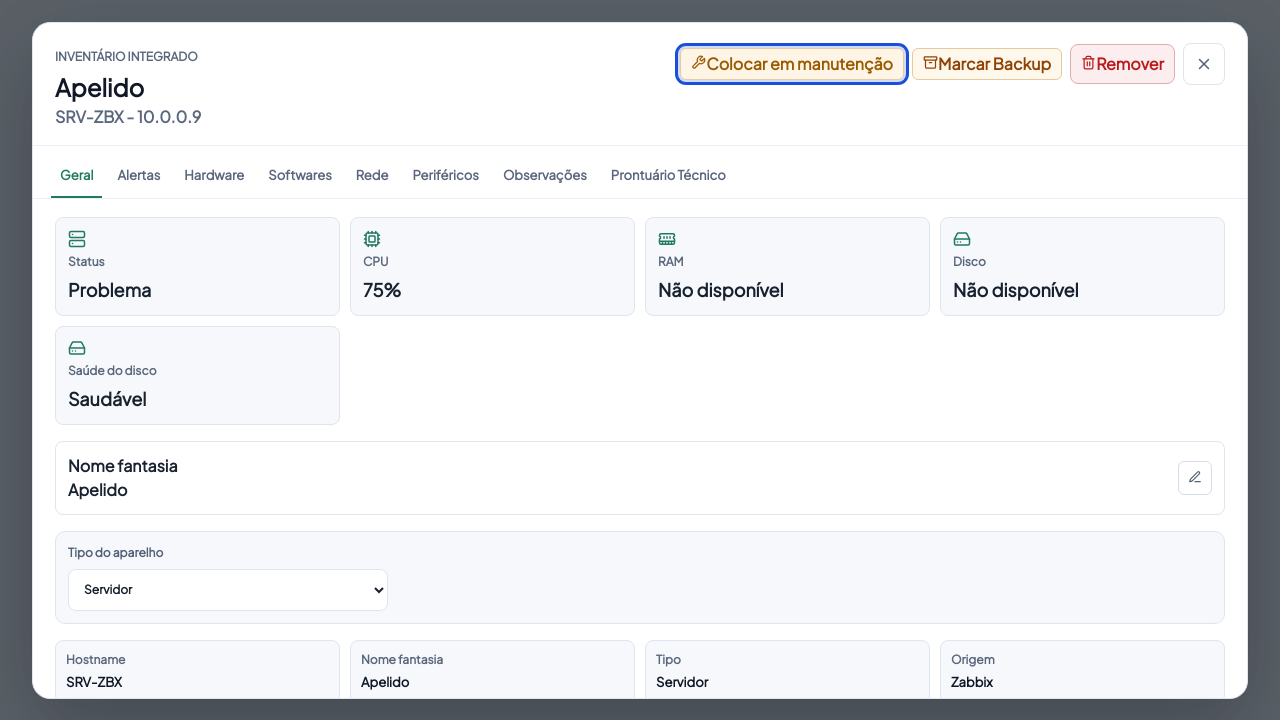
it: MachineDetailsModal — demais abas › gera alerta de problema de monitoramento e alerta de atenção
Step 1. Click the button "Alertas" → {"x": 139, "y": 177}, box [108,156,169,198]
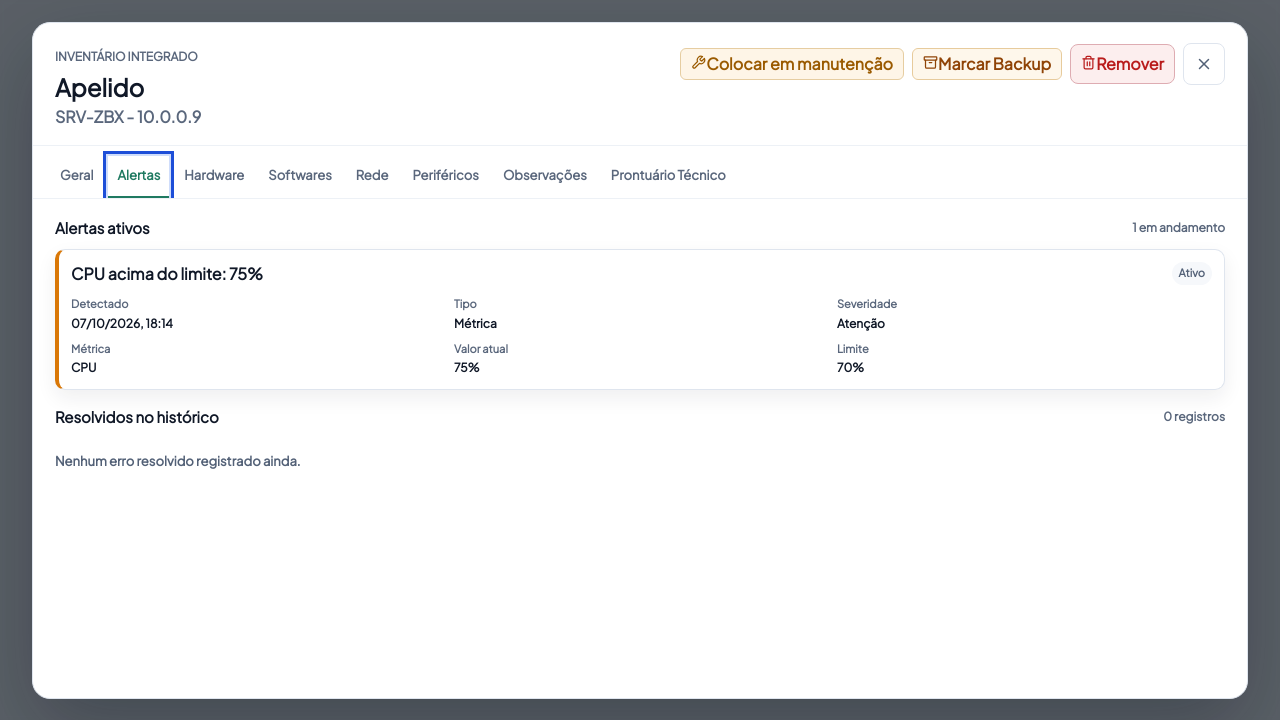
Expected: the text "CPU acima do limite: 75%" is shown, [71,262,263,286]
